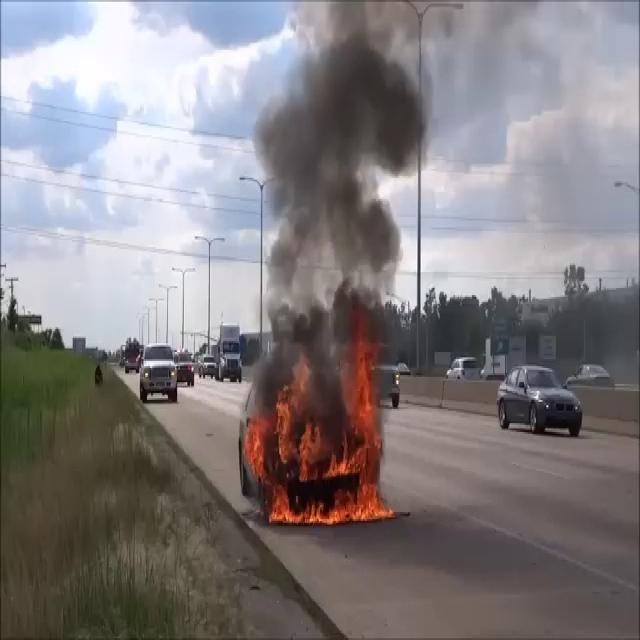Fire: (242, 347, 394, 528)
Smoke: (248, 1, 436, 365)
